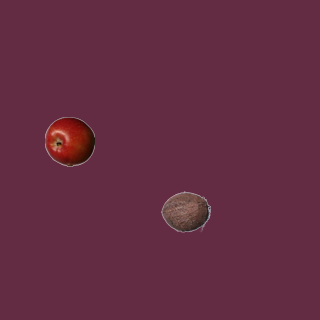Apple Braeburn: (44, 116, 94, 166)
Cocos: (160, 186, 210, 236)
